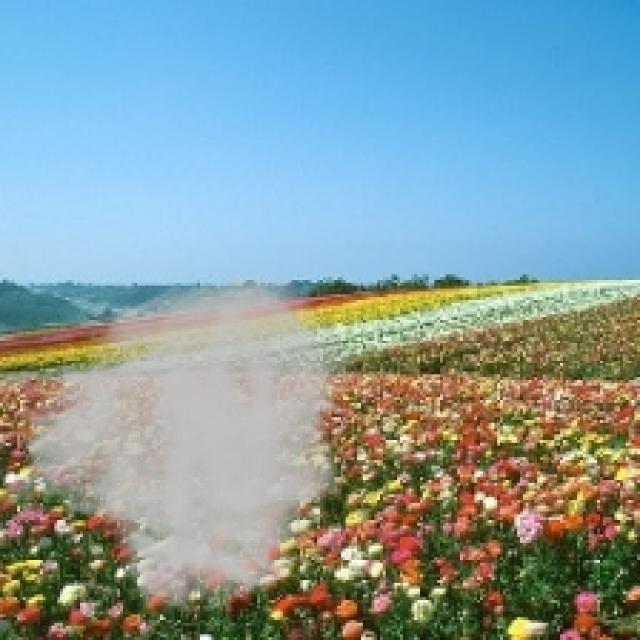smoke: (3, 269, 357, 614)
